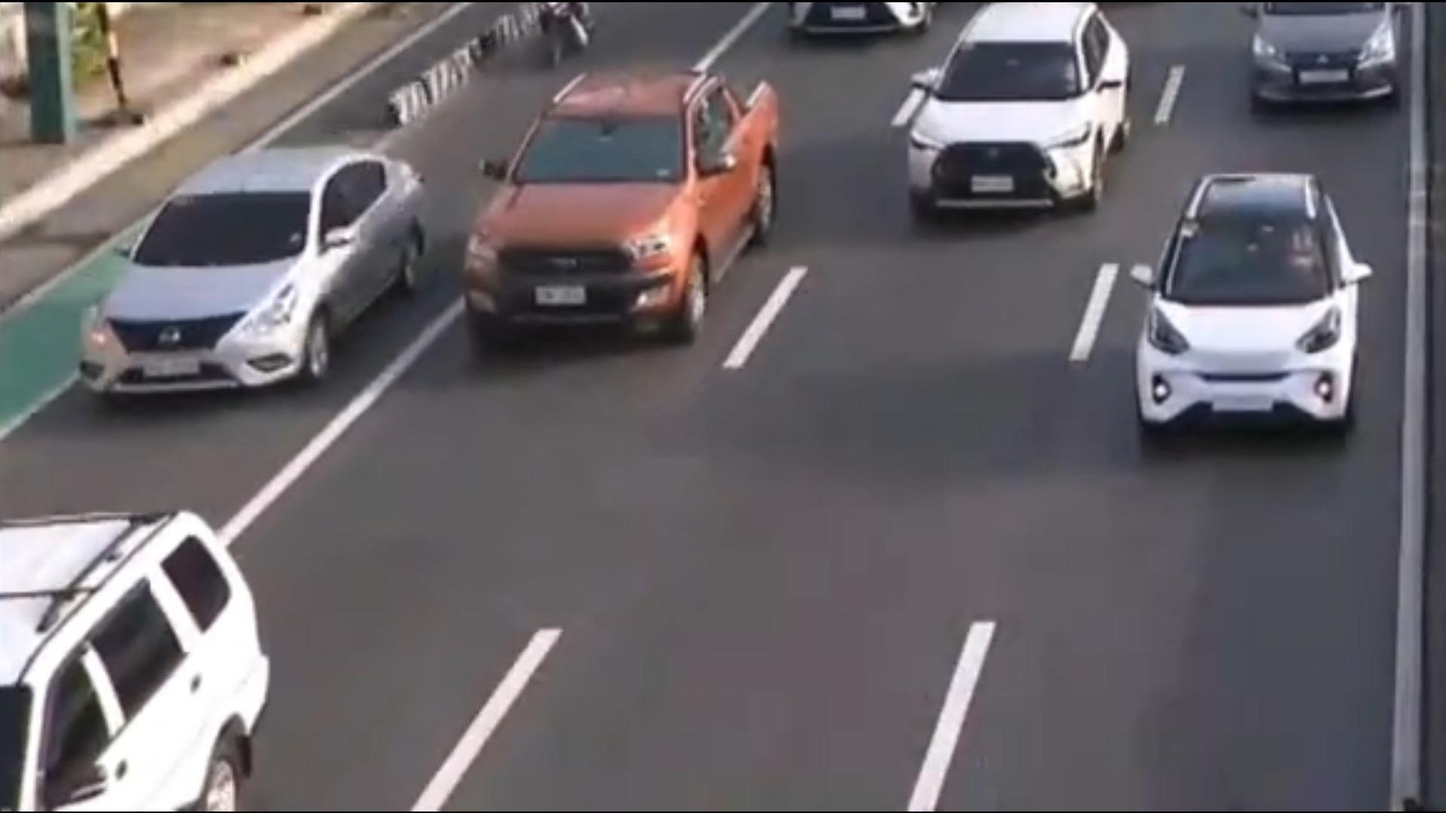SUV: (461, 73, 785, 343), (0, 514, 273, 813), (1128, 167, 1382, 437), (904, 2, 1130, 209)
Sedan: (79, 149, 424, 399), (1245, 0, 1408, 111)
